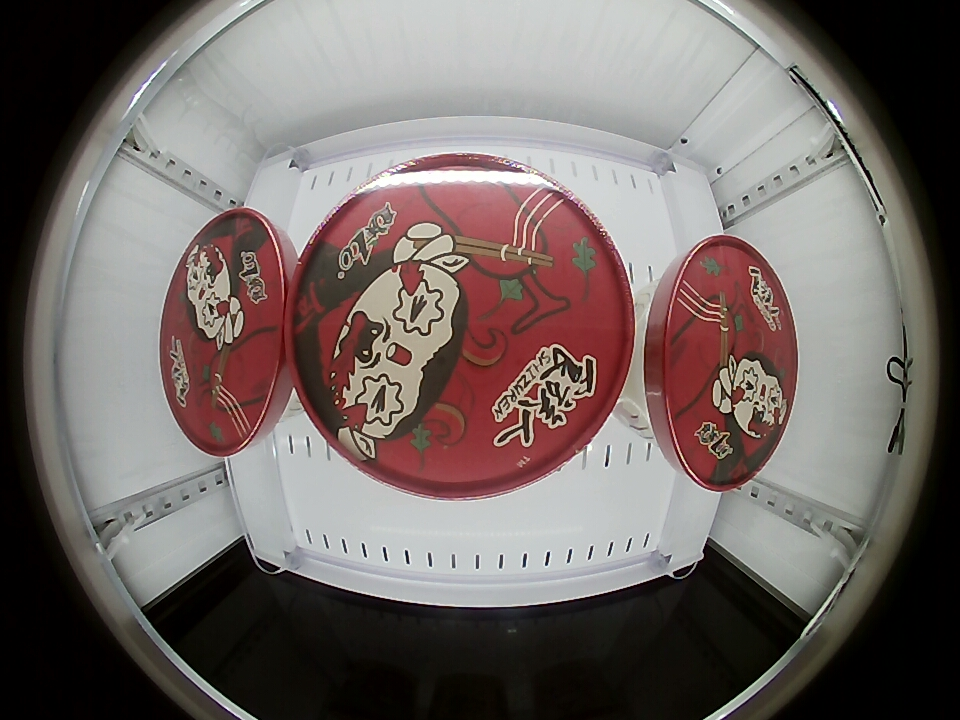suanlafen: (286, 155, 636, 498), (644, 236, 798, 490), (161, 207, 293, 457)
